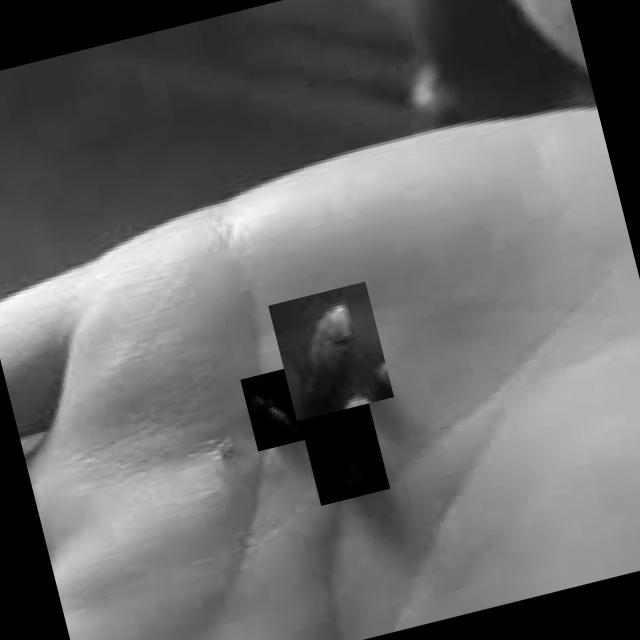fruit fly: (268, 281, 394, 421), (295, 384, 390, 506), (240, 366, 315, 452)
